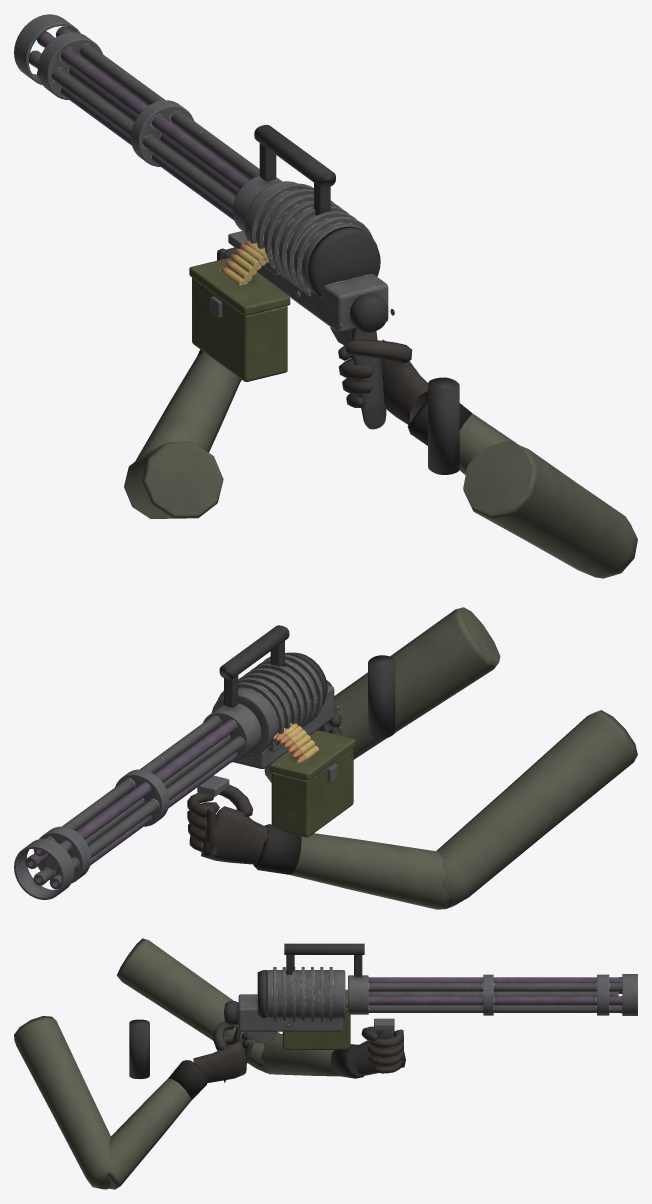
File: minigun.glb
3 views of the same model, one above another, from view 1: azimuth 30°, elevation 25°; view 2: azimuth 150°, elevation 25°; view 3: azimuth 270°, elevation 25° (orthographic). The views are drawn at different scales.
Visible parts, largest first — view 1: minigun, minigun.barrels, minigun.hand_r_upper, minigun.hand_l_upper, minigun.hand_l_fore, minigun.hand_r, minigun.hand_r_fore; view 2: minigun, minigun.barrels, minigun.hand_l_upper, minigun.hand_r_upper, minigun.hand_l_fore, minigun.hand_l; view 3: minigun, minigun.barrels, minigun.hand_r_upper, minigun.hand_l_upper, minigun.hand_r_fore, minigun.hand_l_fore, minigun.hand_l, minigun.hand_r.
Boxes of the visible parts, <box> form: minigun: <box>189,125,459,474</box>; minigun.barrels: <box>14,14,282,232</box>; minigun.hand_r_upper: <box>463,440,637,578</box>; minigun.hand_l_upper: <box>124,442,223,518</box>; minigun.hand_l_fore: <box>135,349,241,461</box>; minigun.hand_r: <box>338,339,427,424</box>; minigun.hand_r_fore: <box>407,399,518,474</box>; minigun: <box>197,625,395,837</box>; minigun.barrels: <box>14,703,261,899</box>; minigun.hand_l_upper: <box>436,710,637,907</box>; minigun.hand_r_upper: <box>334,607,500,759</box>; minigun.hand_l_fore: <box>253,824,452,909</box>; minigun.hand_l: <box>187,784,267,864</box>; minigun: <box>129,943,394,1082</box>; minigun.barrels: <box>348,974,637,1015</box>; minigun.hand_r_upper: <box>14,1016,116,1189</box>; minigun.hand_l_upper: <box>117,938,279,1073</box>; minigun.hand_r_fore: <box>105,1060,207,1189</box>; minigun.hand_l_fore: <box>261,1033,363,1078</box>; minigun.hand_l: <box>352,1026,405,1075</box>; minigun.hand_r: <box>193,1021,253,1082</box>.
Size of the model in its own units: 0.6302 by 0.4339 by 1.2.
1 material, 1 textured.
